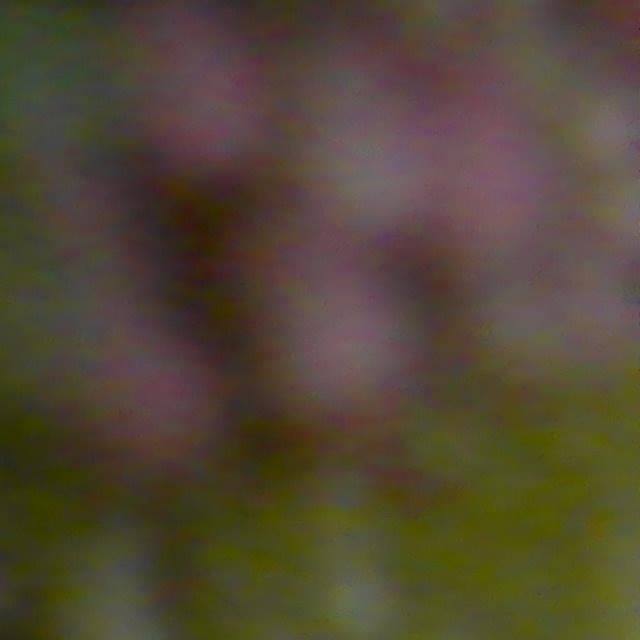SeaGrape: (228, 237, 413, 433), (132, 0, 255, 207), (77, 321, 219, 498)
